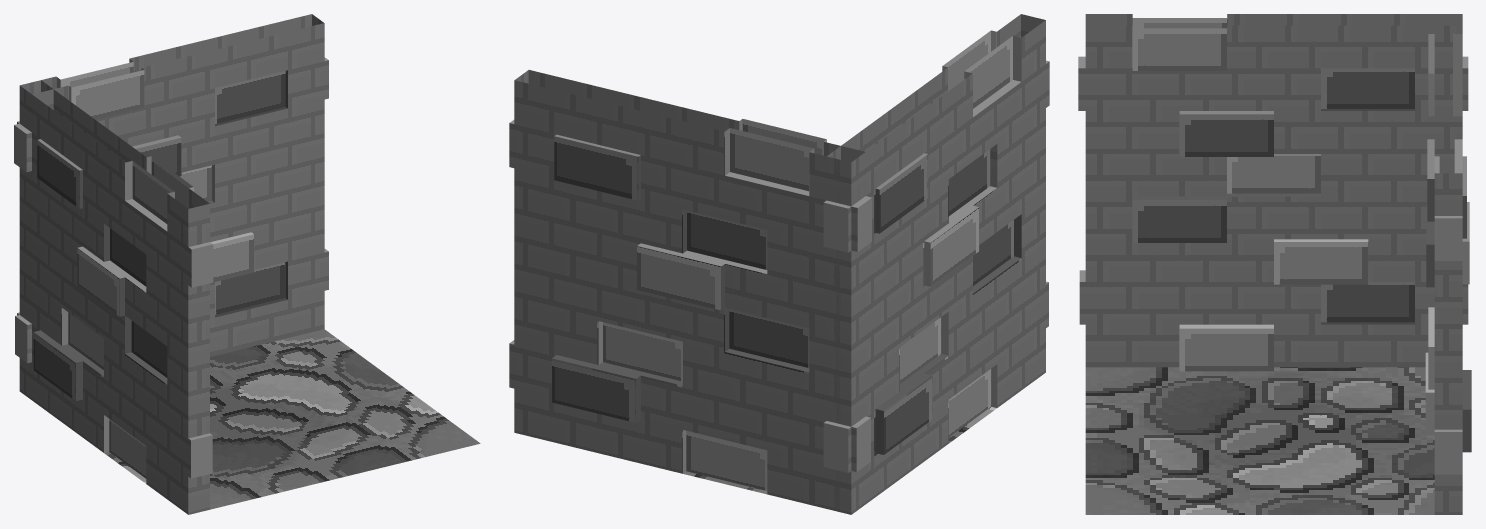
The picture shows the model from 3 angles, left to right: view 1: azimuth 30°, elevation 25°; view 2: azimuth 150°, elevation 25°; view 3: azimuth 270°, elevation 25°; orthographic projection. The views are drawn at different scales.
Visible parts, largest first — view 1: 2W; view 2: 2W; view 3: 2W.
Part boxes in pixels (bbox=[...]): 2W: bbox=[14, 14, 480, 514]; 2W: bbox=[509, 14, 1049, 514]; 2W: bbox=[1078, 14, 1471, 514].
Bounding box in the file's own units: 2.08 × 2 × 2.09.
2 materials, 2 textured.
